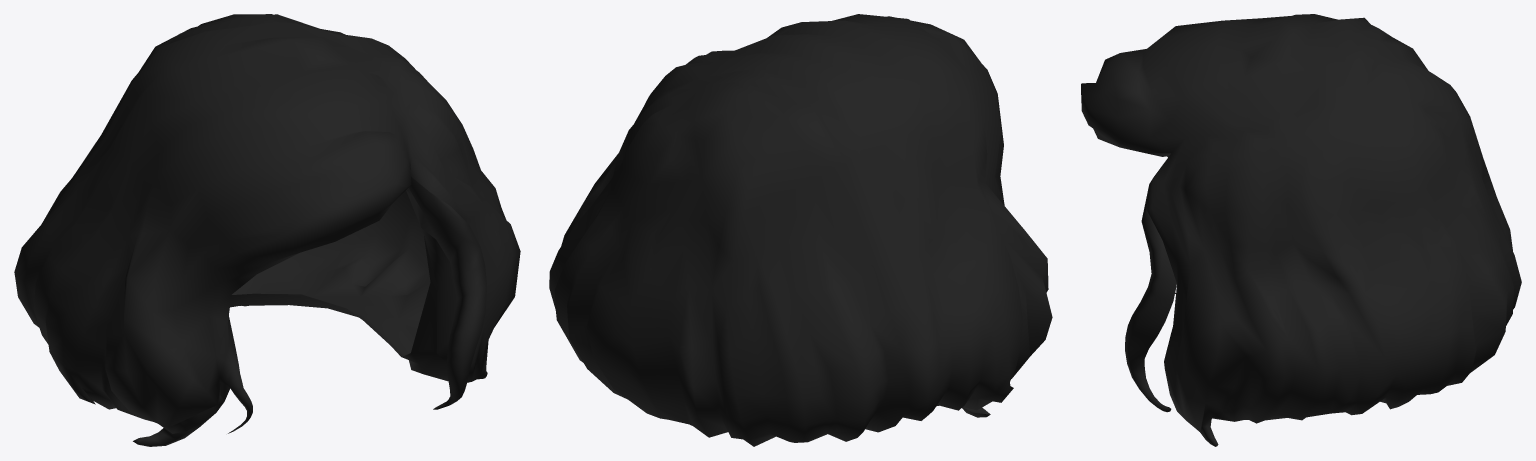
Rendered from Avatar_Hair.fbx.
3 renders of one model, left to right at view 1: azimuth 30°, elevation 25°; view 2: azimuth 150°, elevation 25°; view 3: azimuth 270°, elevation 25°, orthographic. The views are drawn at different scales.
Visible parts, largest first — view 1: TechSavvyAnalyst-FemaleMESH.001; view 2: TechSavvyAnalyst-FemaleMESH.001; view 3: TechSavvyAnalyst-FemaleMESH.001.
Boxes of the visible parts, bbox=[...] form: TechSavvyAnalyst-FemaleMESH.001: bbox=[14, 14, 520, 446]; TechSavvyAnalyst-FemaleMESH.001: bbox=[549, 14, 1052, 446]; TechSavvyAnalyst-FemaleMESH.001: bbox=[1081, 14, 1521, 446].
Size of the model in its own units: 27.68 by 21.95 by 25.71.
